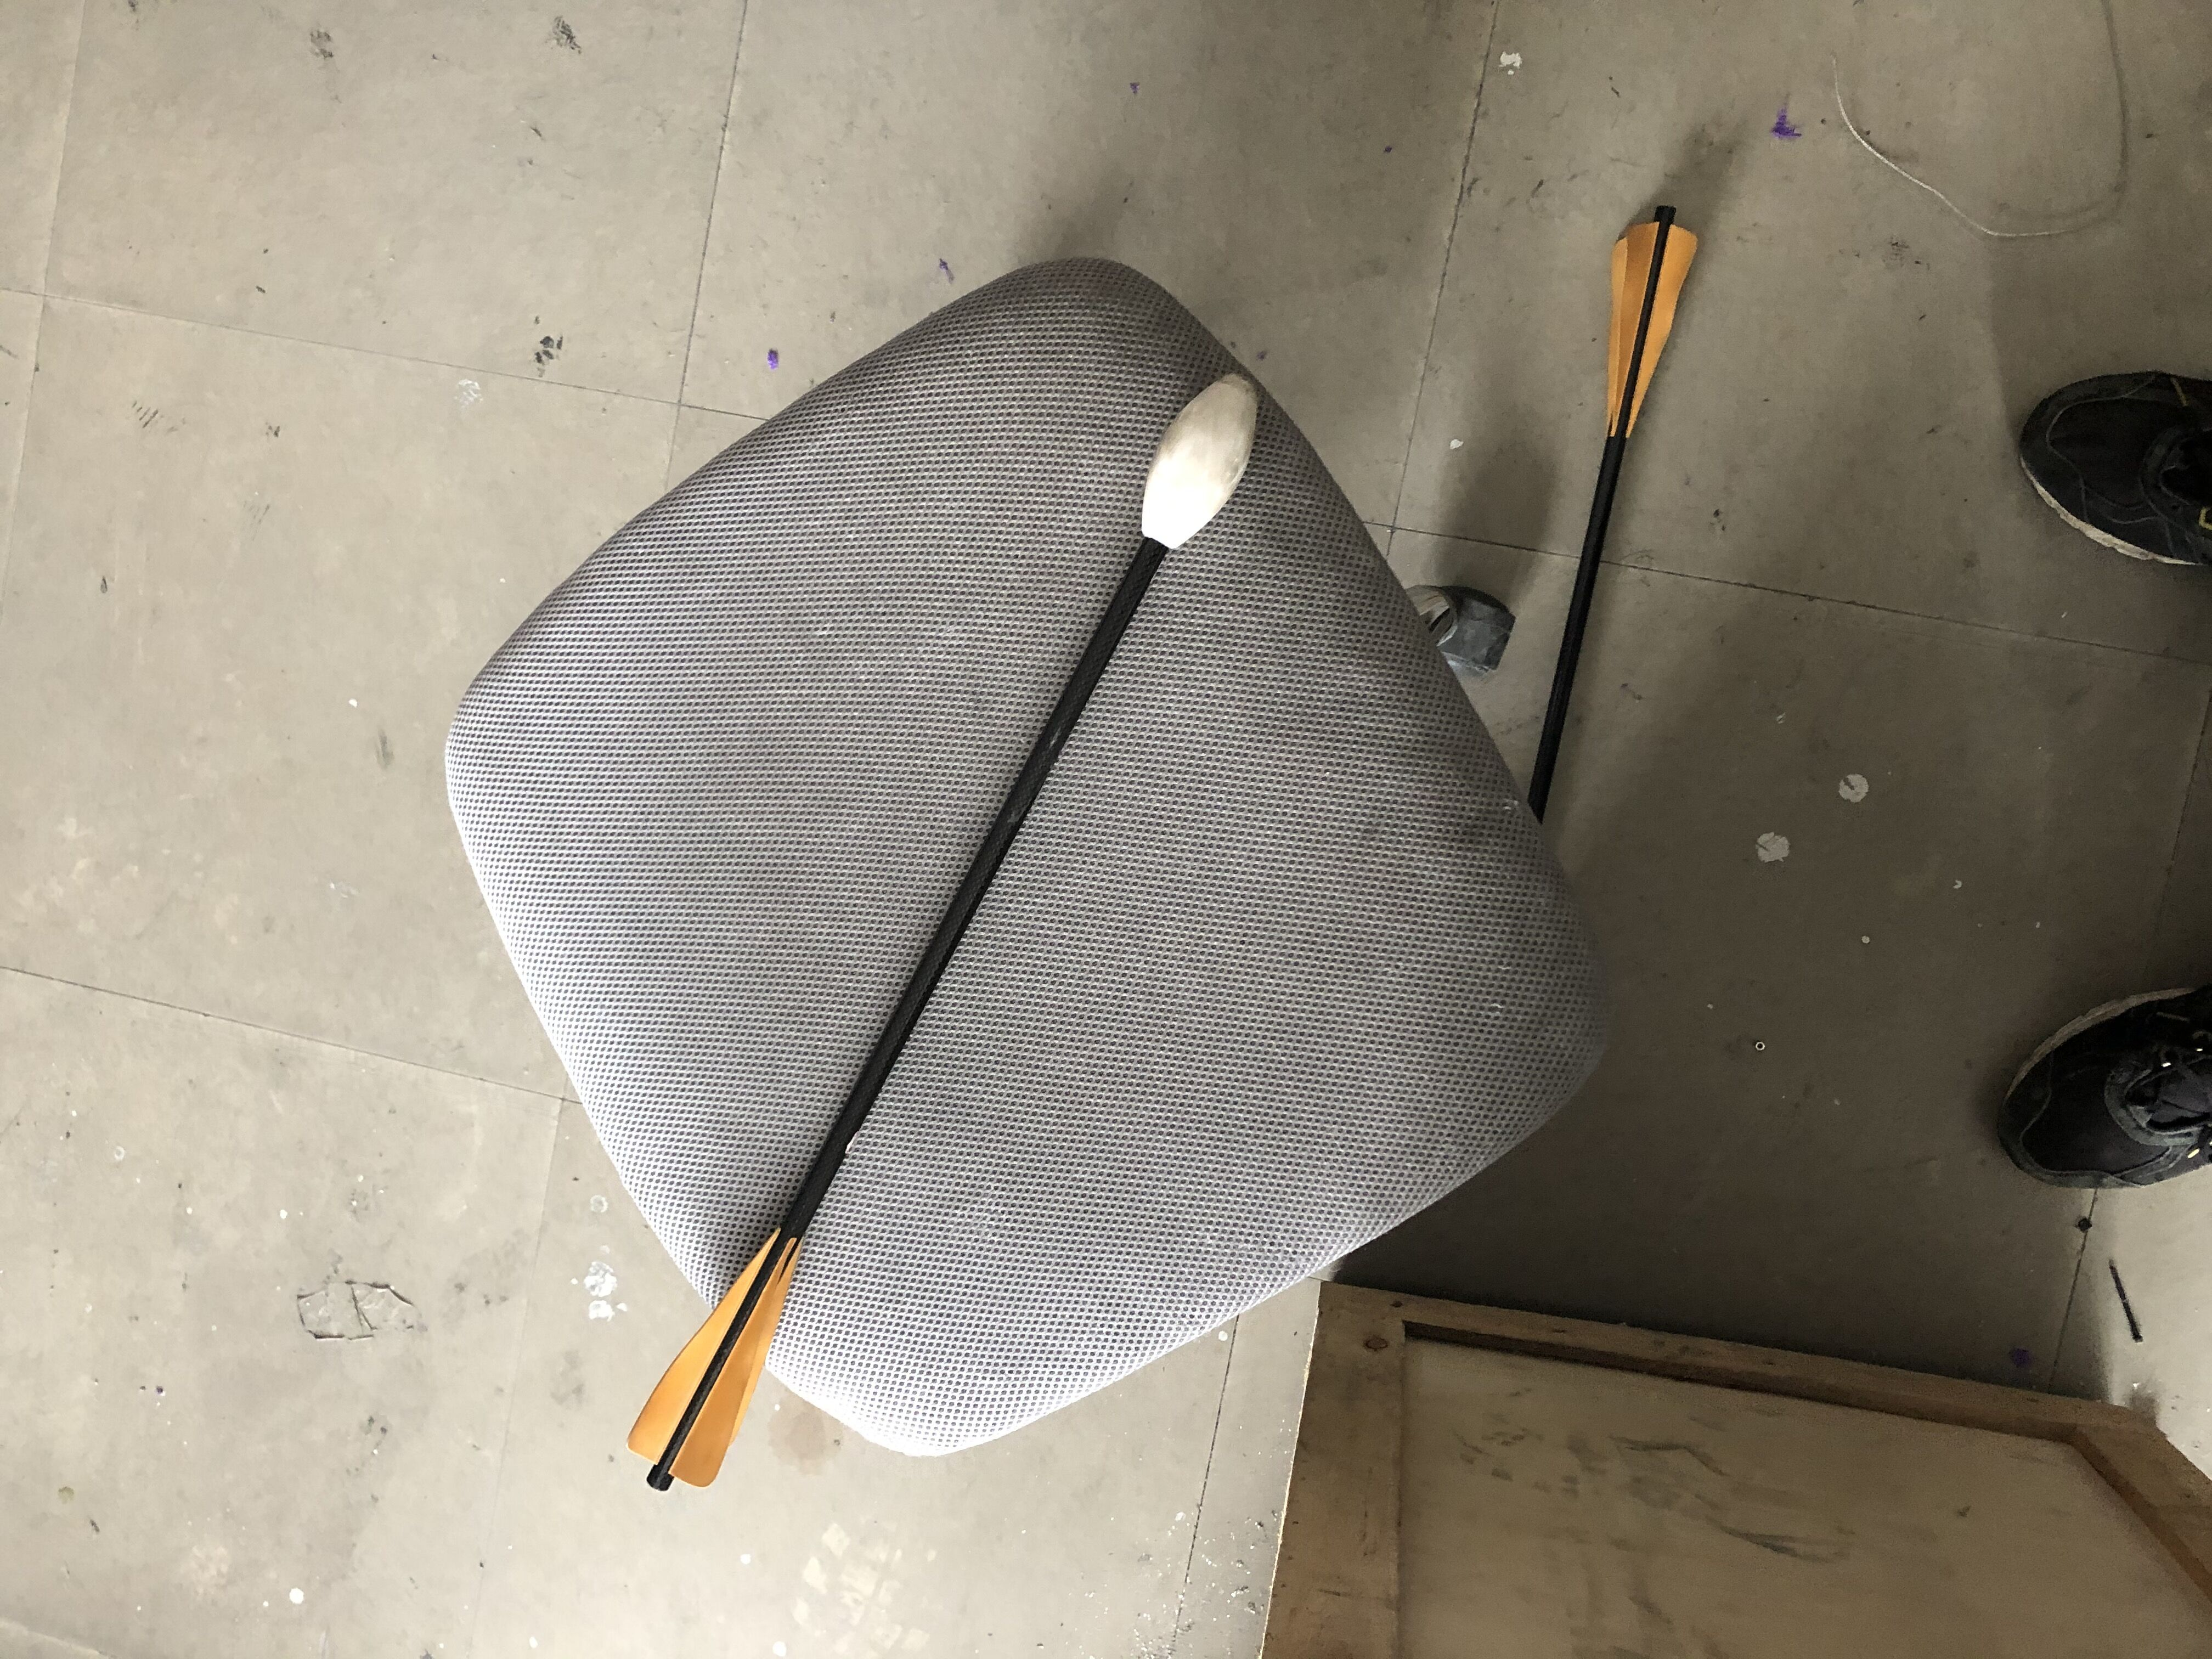arrow: (631, 373, 1259, 1492), (1529, 204, 1696, 828)
arrowFront: (1141, 373, 1261, 559)
